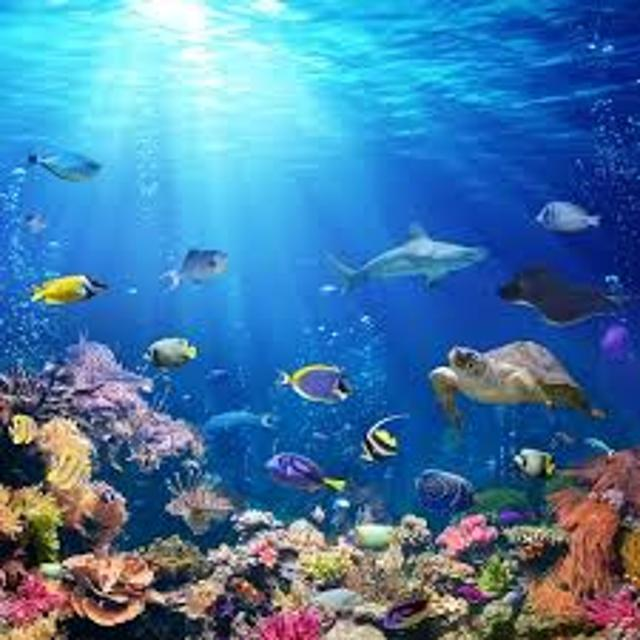fish: (321, 223, 491, 291), (265, 449, 350, 494), (159, 247, 234, 297), (414, 466, 488, 514), (277, 362, 355, 406), (25, 272, 113, 306), (198, 405, 274, 440), (30, 149, 105, 183), (536, 198, 603, 236), (360, 412, 406, 463), (139, 336, 202, 372), (384, 592, 438, 629), (510, 447, 561, 484), (345, 520, 404, 550), (206, 367, 233, 385)
